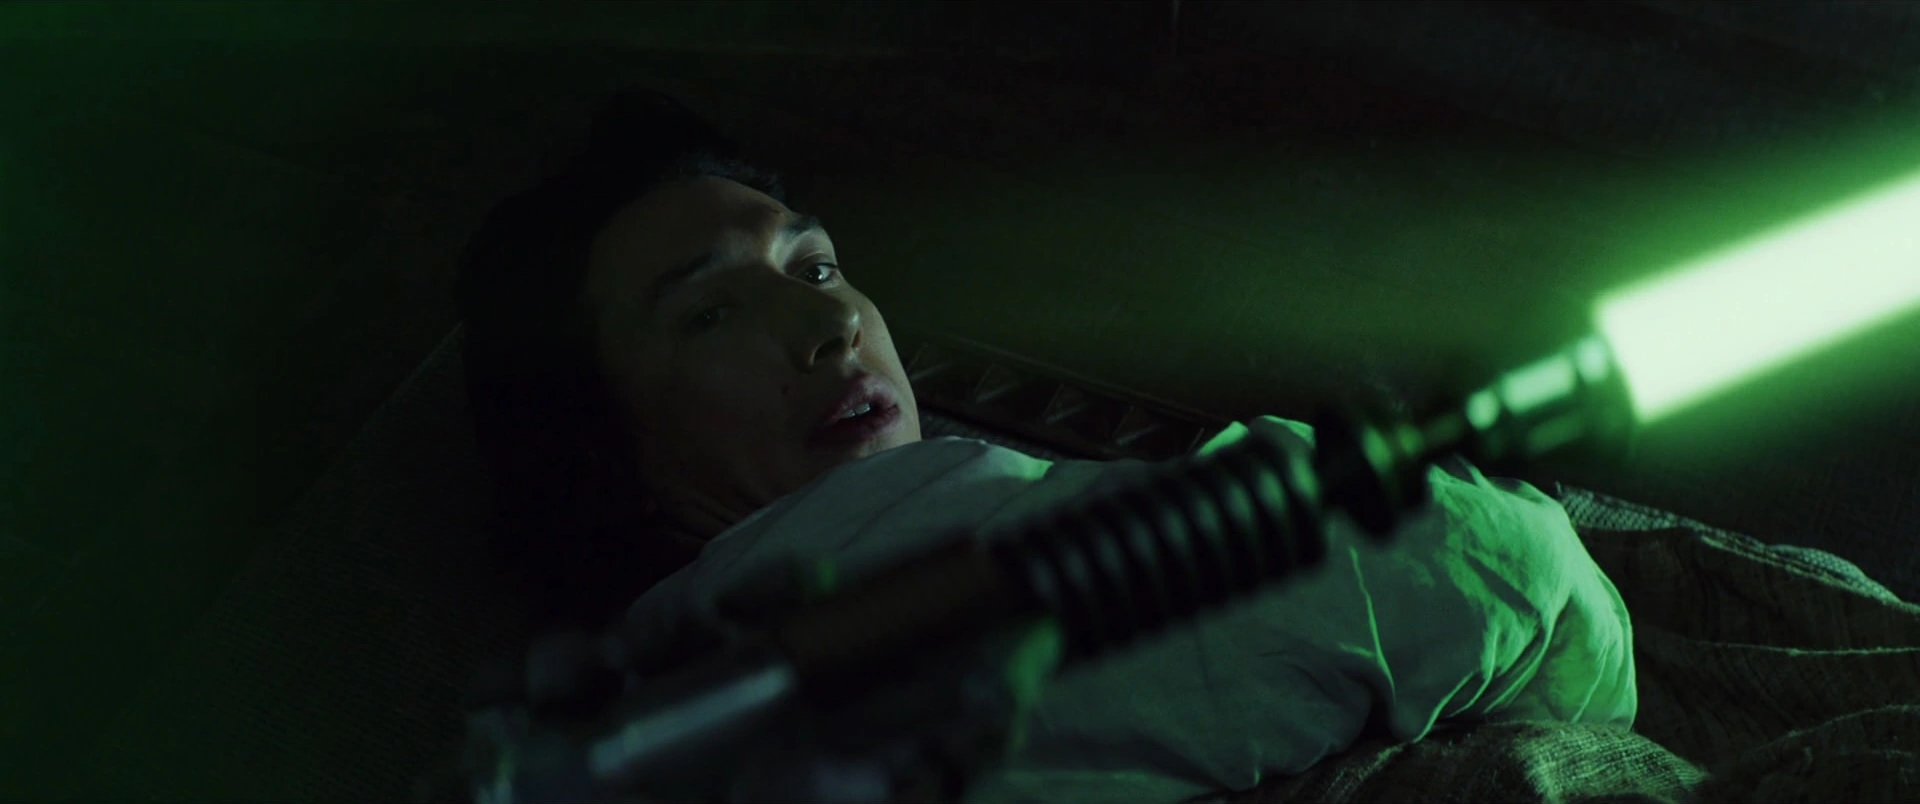Dalek: (403, 33, 1920, 803)
